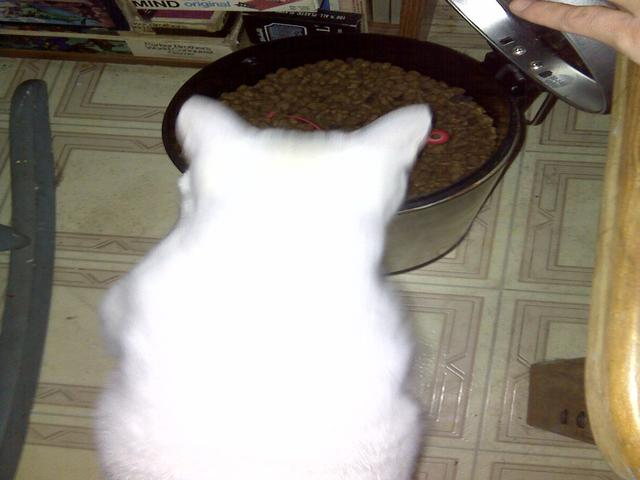cat: (77, 81, 436, 480)
